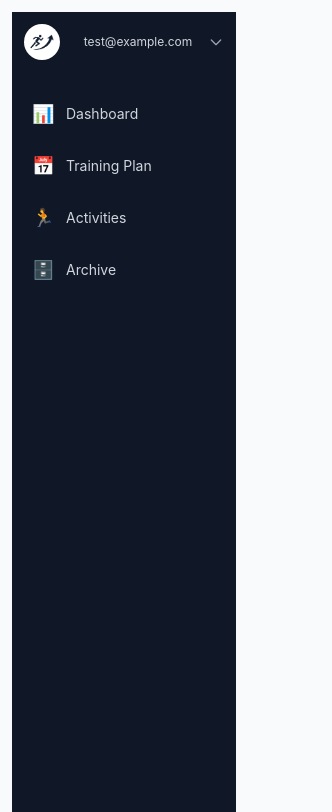
Sidebar › logout button appears after clicking header row
The image size is (332, 812).
Check: the button "logout" is not shown
What coordinates should you click on to do the following:
click the button with aria-label "account menu"
I would click on:
 (124, 42)
Its box is [12,12,236,72].
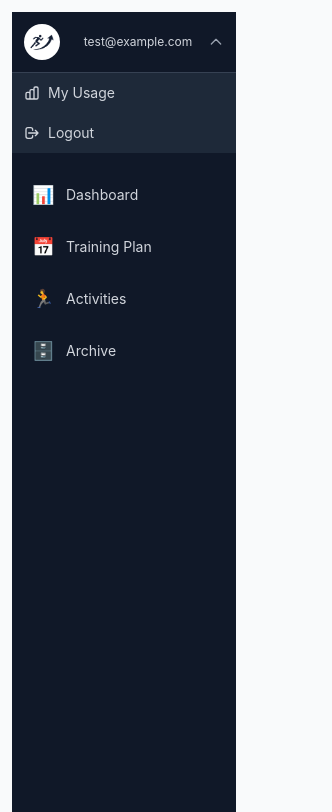
Check: the button "Logout" is shown, box [12,113,236,153]
